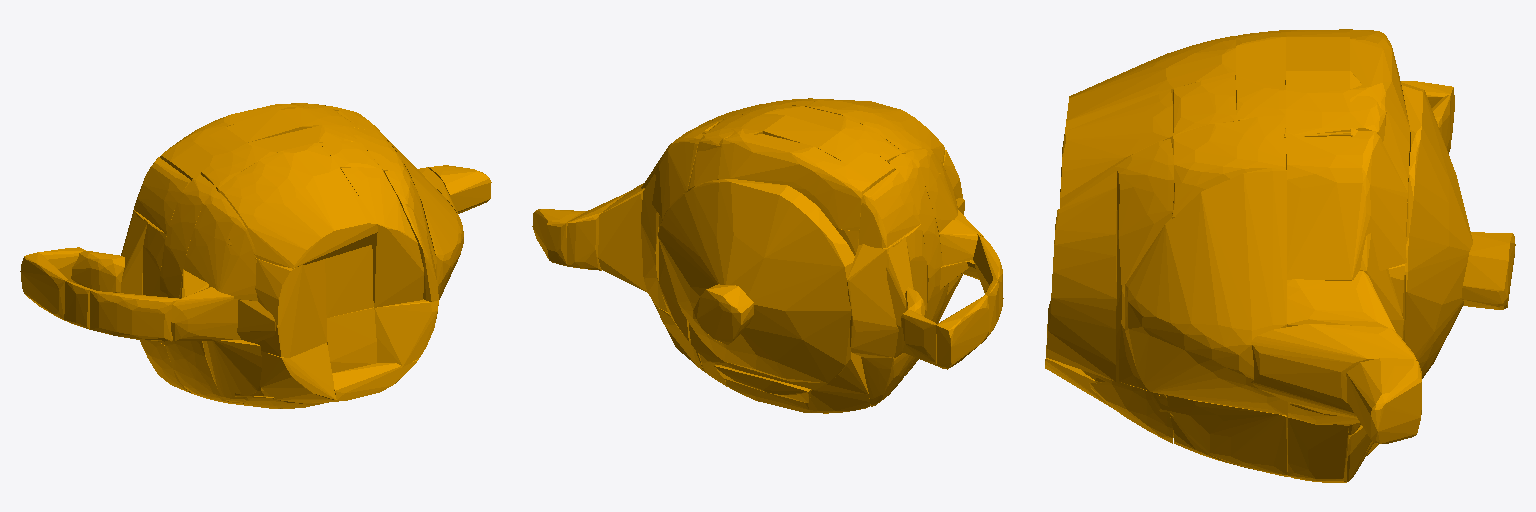
URDF robot description (teapot-green):
<?xml version="1.0" ?>
<robot name="teapot-green">
  <link name="baseLink">
    <contact>
      <lateral_friction value="1.0"/>
      <inertia_scaling value="3.0"/>
    </contact>
    <inertial>
      <origin rpy="0 0 0" xyz="0.000 0.000 0.000"/>
       <mass value=".1"/>
       <inertia ixx="1" ixy="0.0" ixz="0.0" iyy="1" iyz="0.0" izz="1"/>
    </inertial>
    <visual>
      <origin rpy="0 0 0" xyz="0 0 0"/>
      <geometry>
        <mesh filename="teapot/teapot-green_grass.obj" scale="1.0 1.0 1.0"/>
      </geometry>
    </visual>
    <collision>
      <origin rpy="0 0 0" xyz="0 0 0"/>
      <geometry>
        <mesh filename="../collision/teapot/teapot-green_grass.obj" scale="1.0 1.0 1.0"/>
      </geometry>
    </collision>
  </link>
</robot>
        

--- What the picture shows (computed from the rendered views, not written in the file) ---
Views: 3 orthographic renders of the robot side by side, from view 1: azimuth 30°, elevation 25°; view 2: azimuth 150°, elevation 25°; view 3: azimuth 270°, elevation 25°.
Robot: teapot-green — 1 links, 0 joints (none); root link baseLink; default pose: every joint at zero.
Links seen in each view (by area): view 1: baseLink; view 2: baseLink; view 3: baseLink.
Link boxes in pixels (bbox=[...]): baseLink: bbox=[20, 103, 491, 408]; baseLink: bbox=[532, 98, 1003, 413]; baseLink: bbox=[1045, 29, 1515, 482].
Size in the robot's own frame: 0.2177 by 0.138 by 0.1258 metres.
1 mesh visuals loaded from 1 distinct referenced files (1 OBJ).